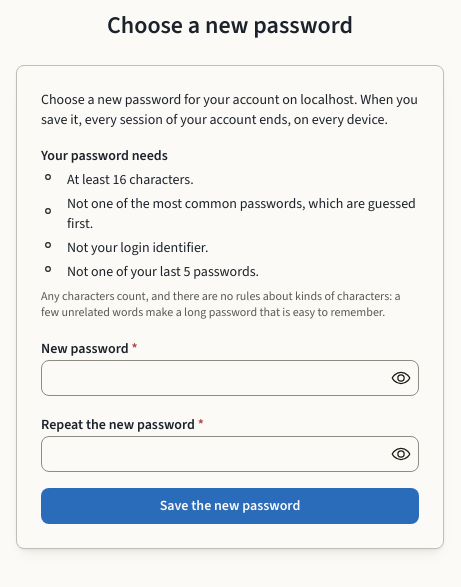
Test: the password forms › check the tenant's minimum length before sending [TF-012 AC4, ADR-0046]
Check: the text "At least 16 characters." is shown, box [67, 170, 194, 190]
Click the password field labelled "New password *": (230, 378) [42, 361, 418, 395]
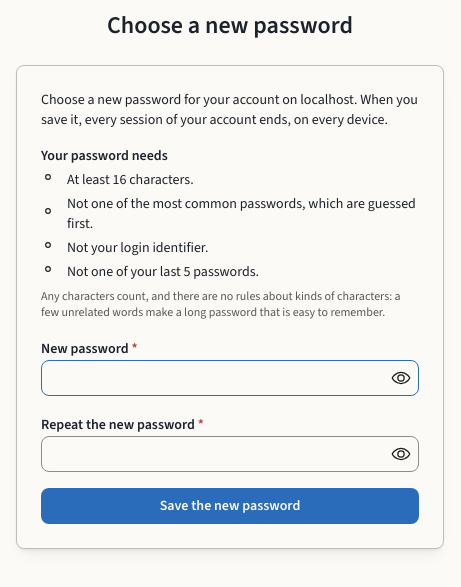
Type keys "fifteen letters"
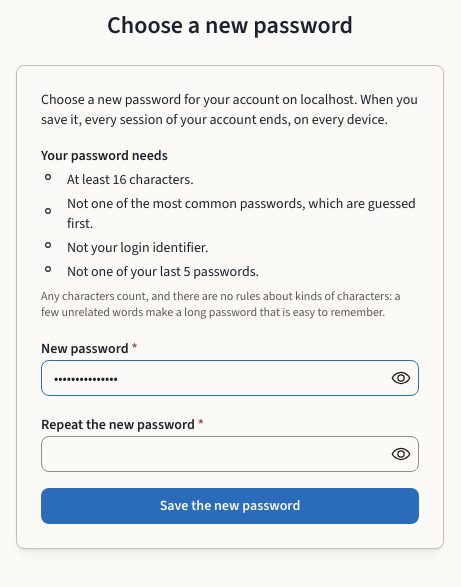
Click the password field labelled "Repeat the new password *": (230, 454) [42, 437, 418, 471]
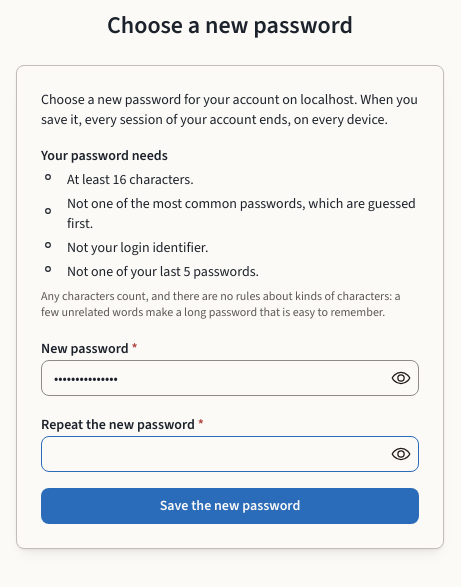
Type keys "fifteen letters"
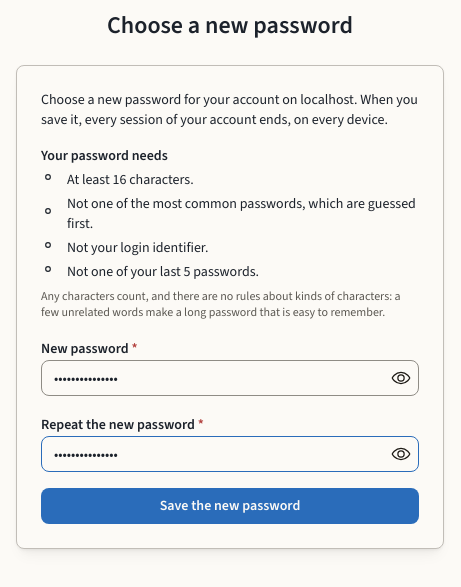
Click the button "Save the new password": (230, 506) [41, 488, 419, 524]
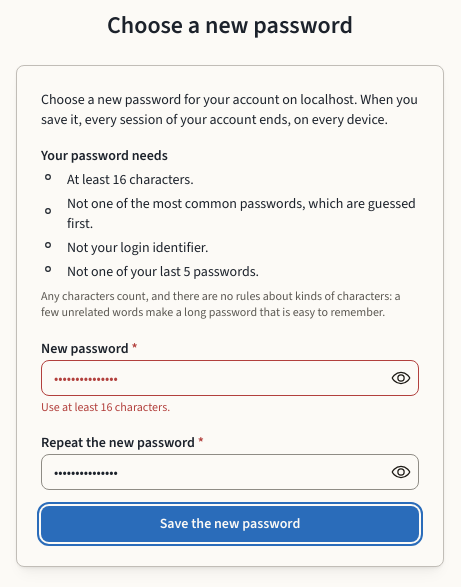
Check: the text "Use at least 16 characters." is shown, box [41, 399, 170, 415]
